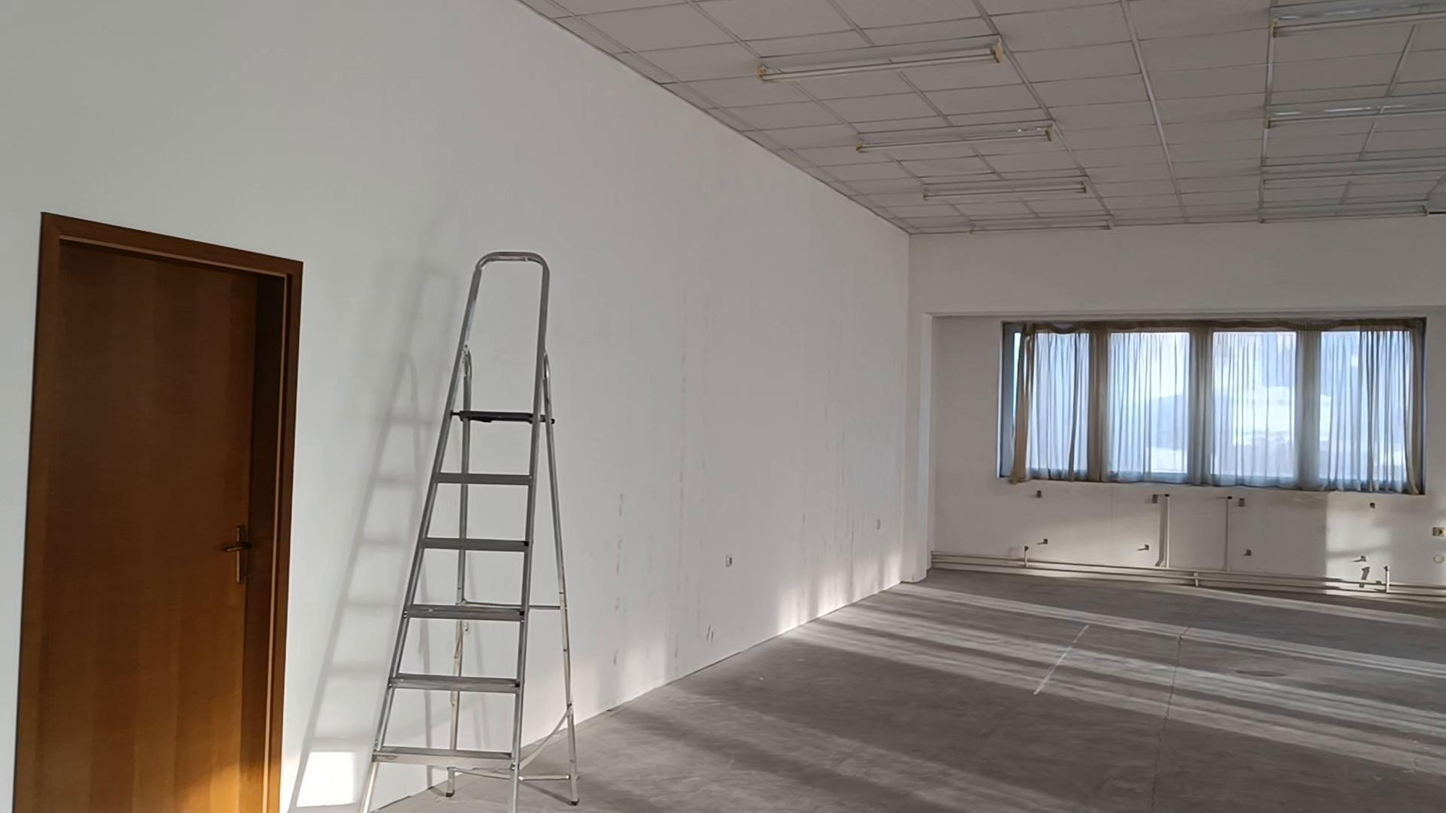ceiling: (520, 0, 1445, 233)
floor: (519, 570, 1445, 812)
wall: (0, 0, 1445, 812), (936, 324, 1397, 578)
